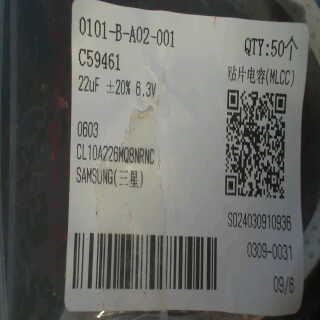22uF: (75, 73, 104, 92)
